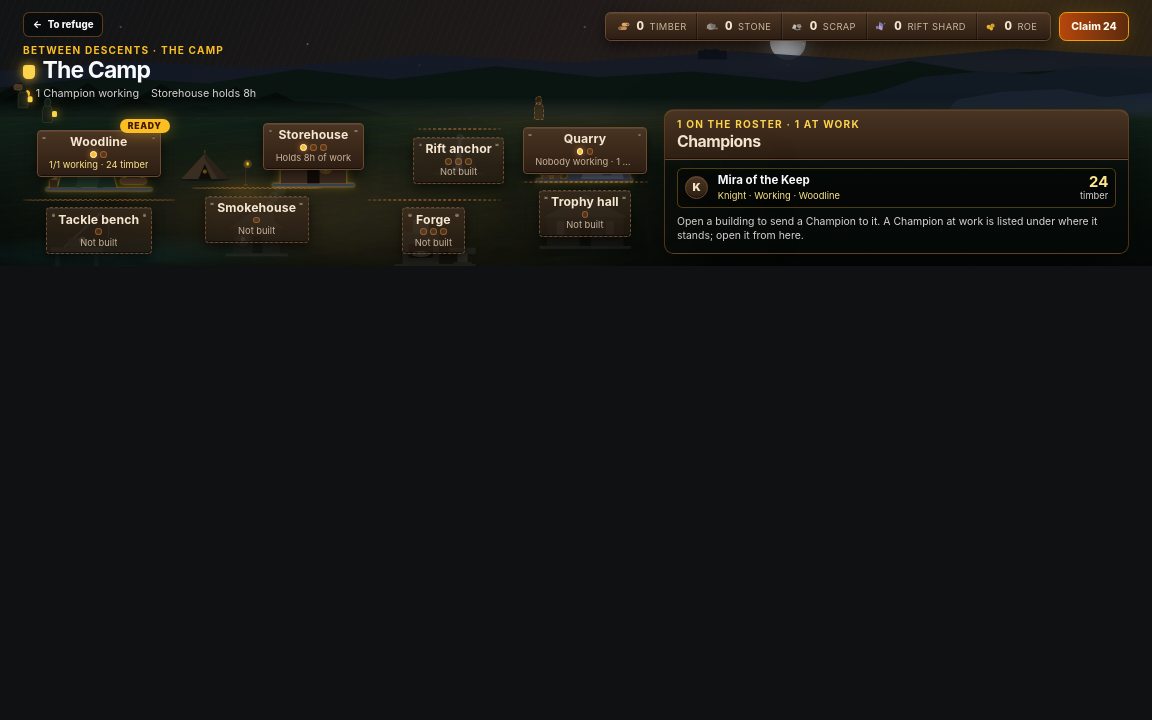
Scenario: CampScreen › lists who is where beside the ground, and opens a working Champion's building from it
The image size is (1152, 720).
Expected: the element "Champions" shows "1 on the roster · 1 at work", [664,109,1129,254]
Click the button with aria-label "Mira of the Keep, working at the woodline".
click(764, 180)  # box [677,168,1116,208]
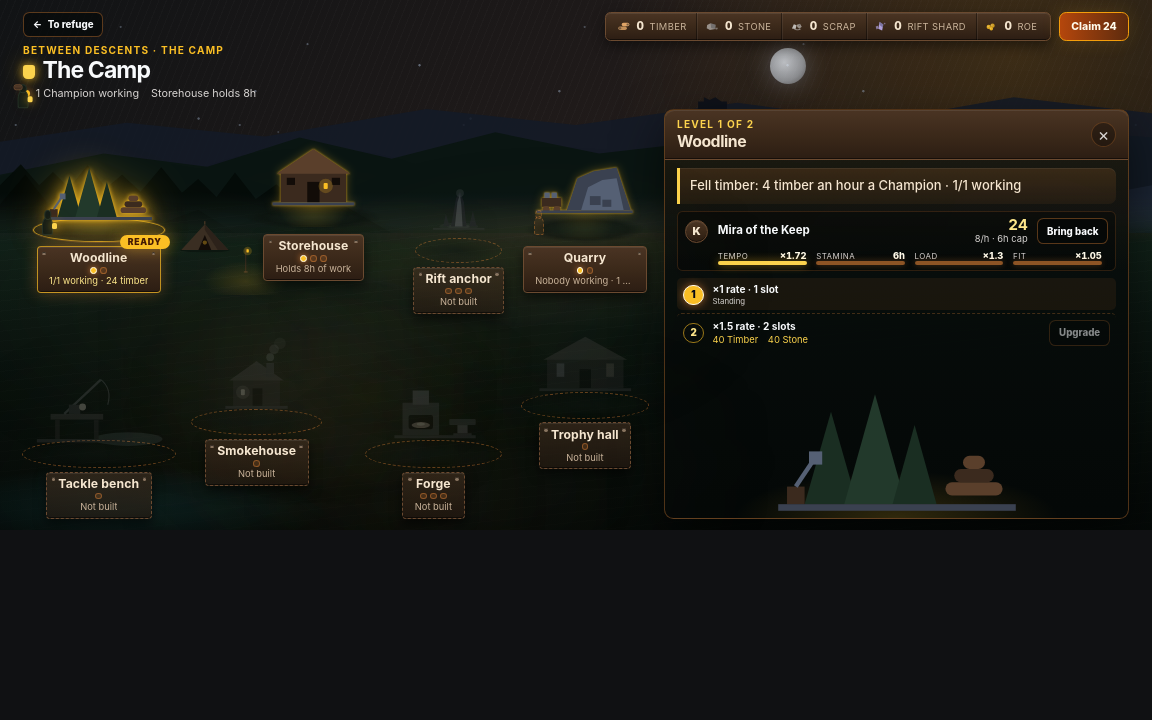
Expected: the heading "Woodline" is shown, [677,132,746,151]
Expected: the heading "Champions" is gone
